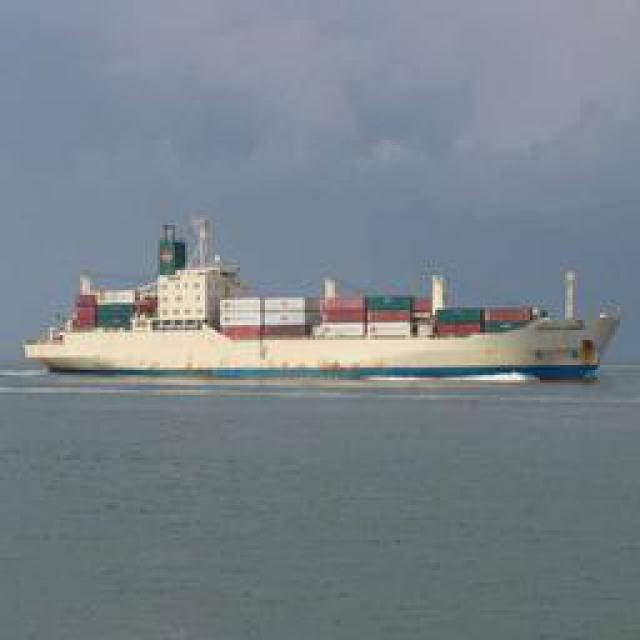Ship: (26, 224, 621, 387)
